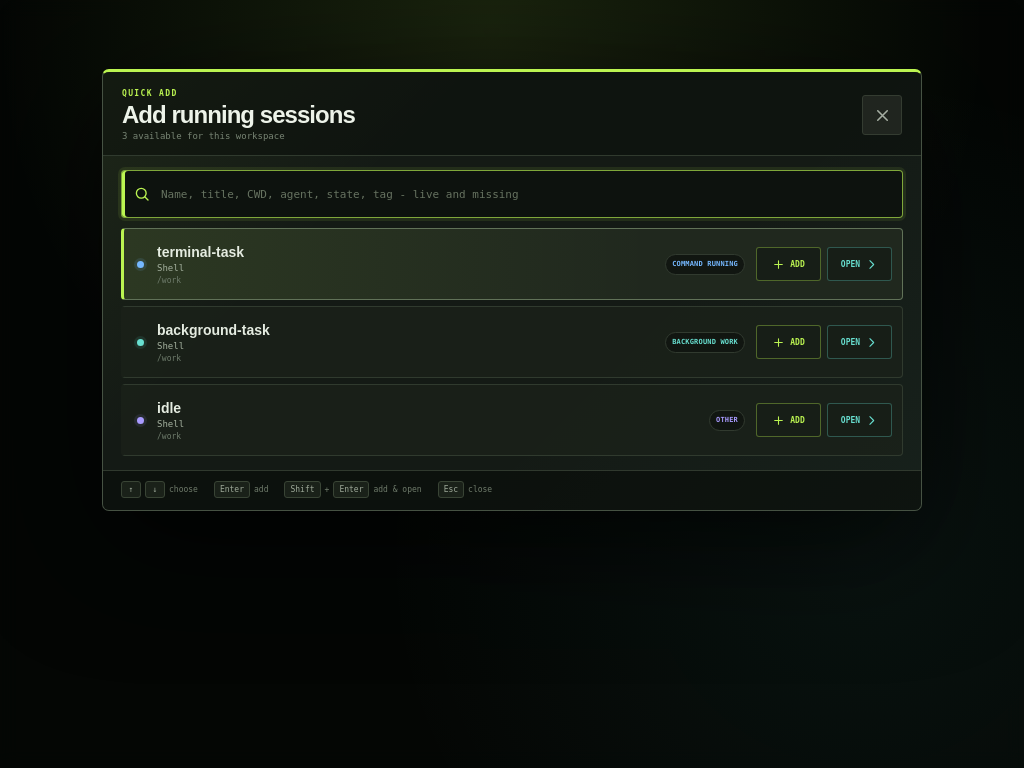
Test: WorkspaceSessionAddDialog › shows a command-running badge and finds the session by that status
In the dropdown named "Find a session to add": coordinates (526, 194) [161, 171, 891, 217], type "command running"
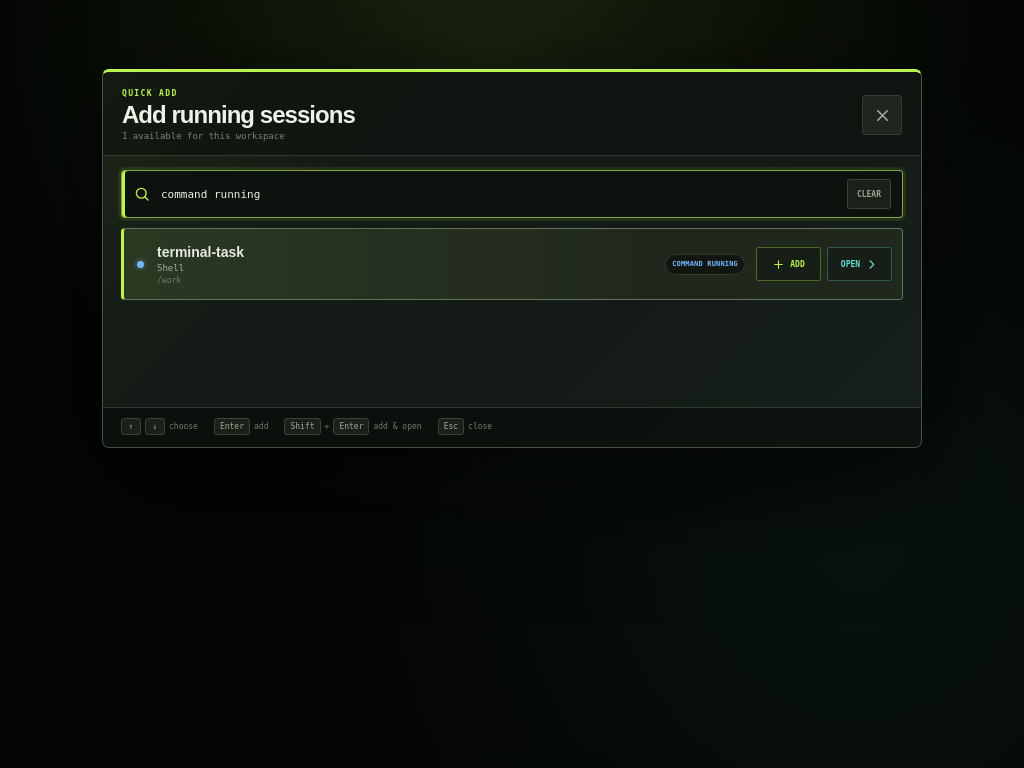
Expected: the number of list items is 1, [121, 228, 903, 300]
Result: the text "background-task" is gone
Result: the text "idle" is gone
